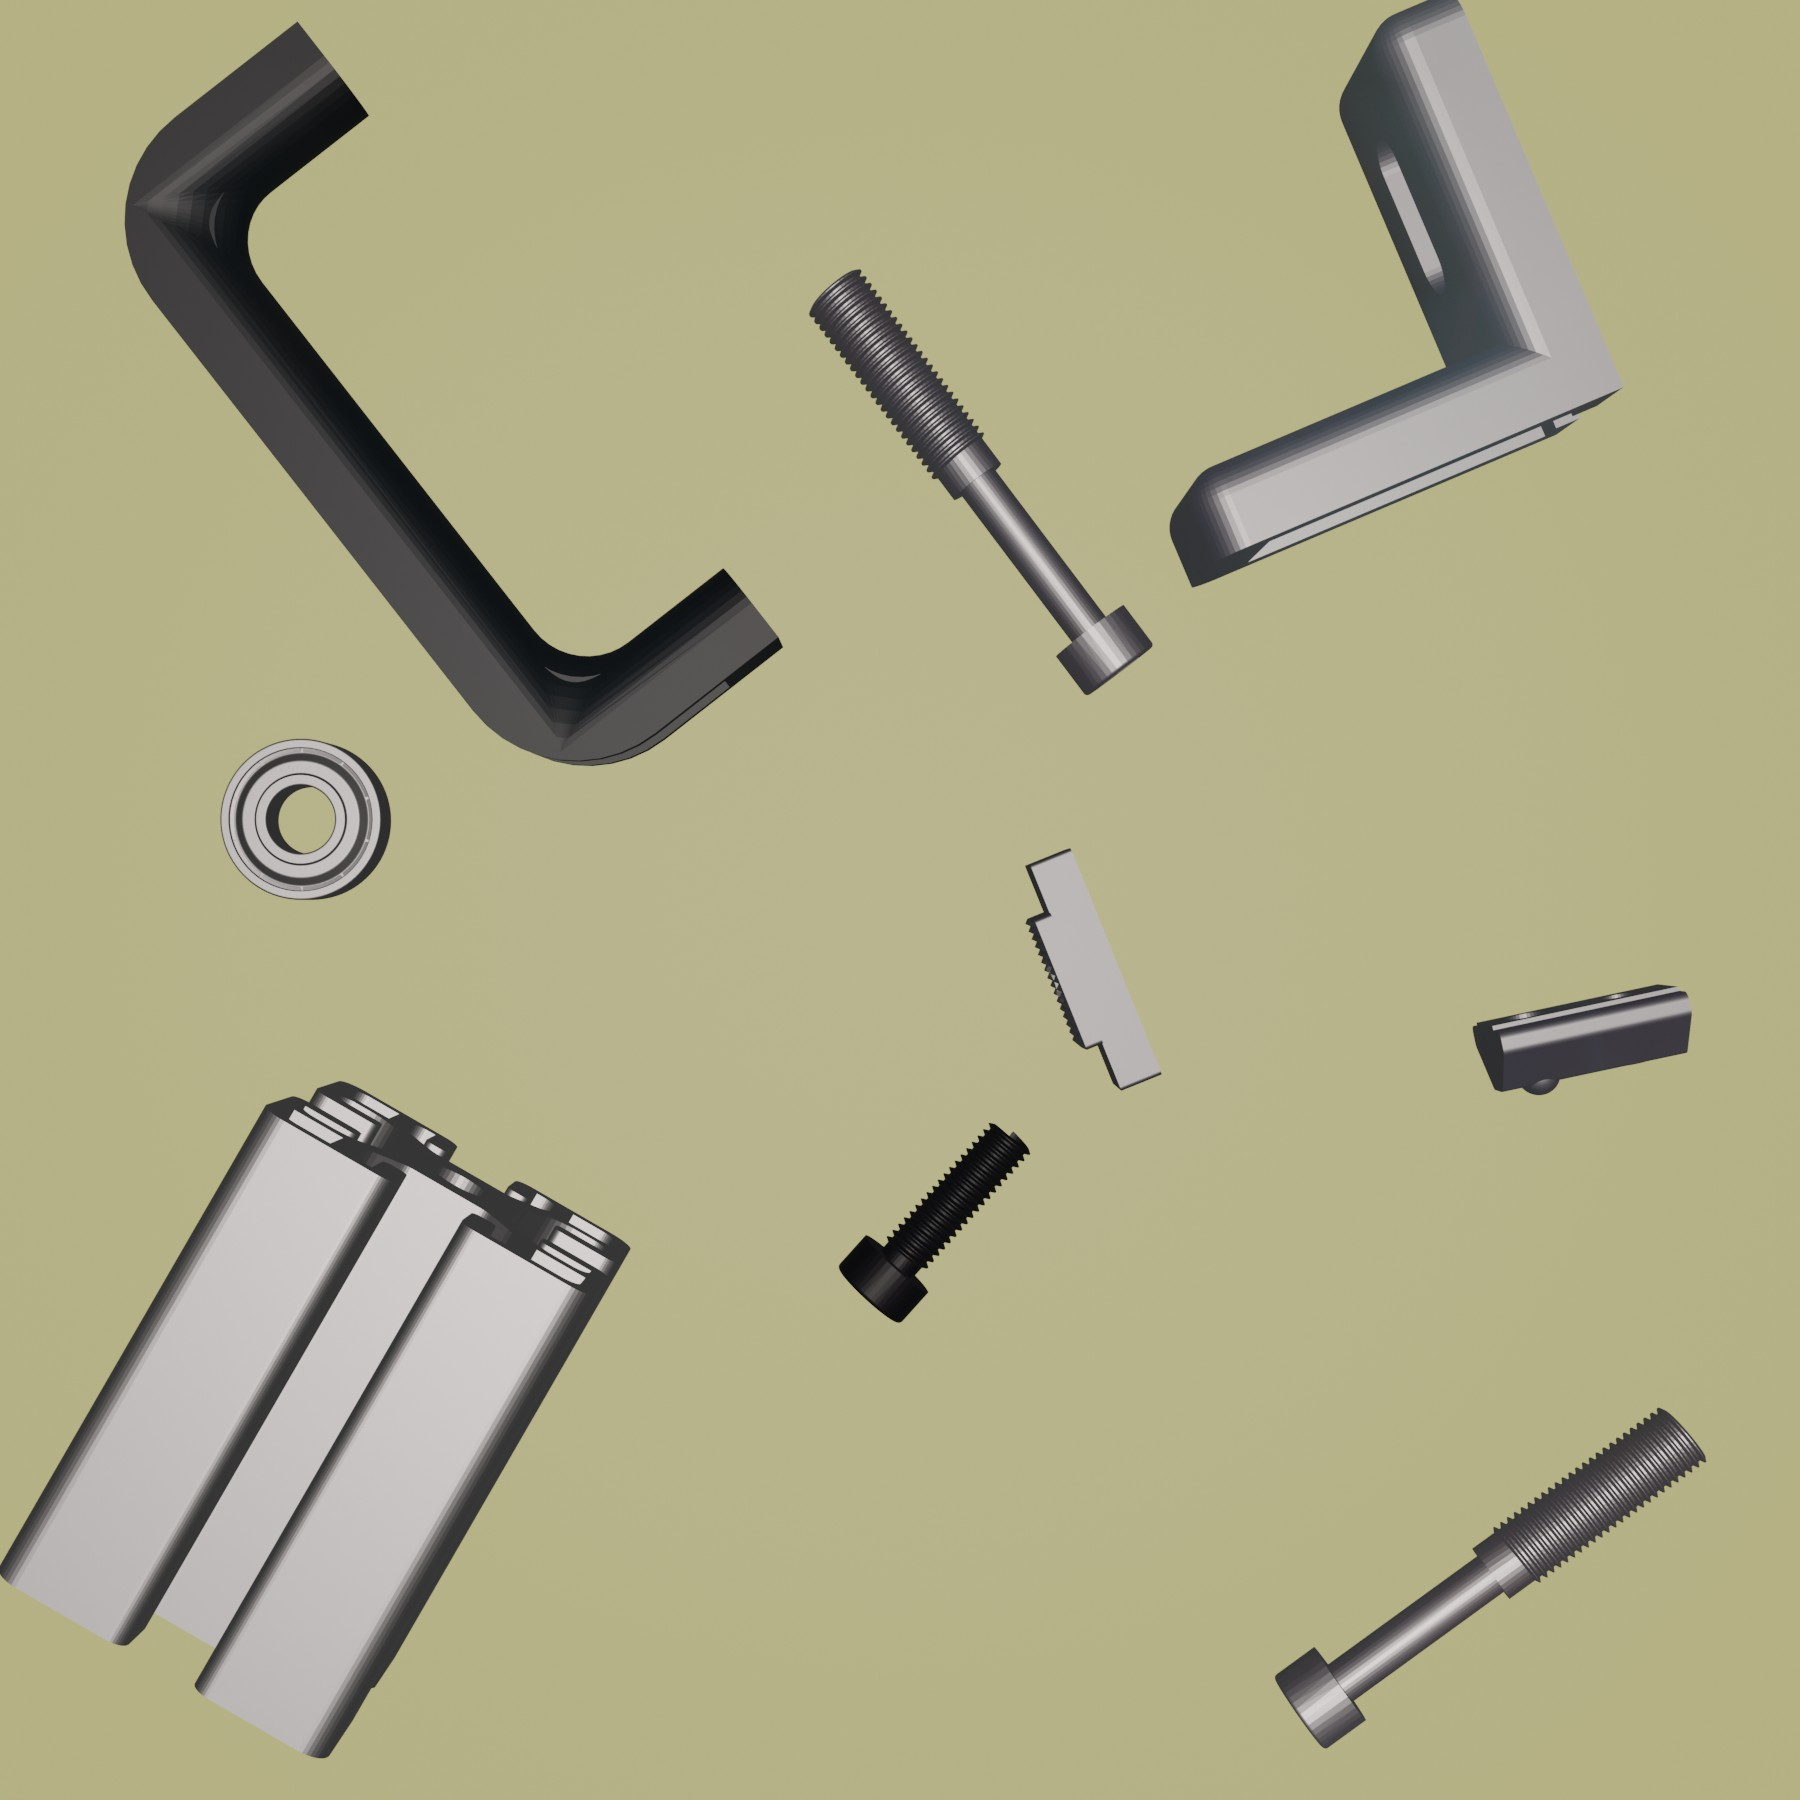Aluminium Extension: (2, 1080, 631, 1760)
Ball Bearing: (218, 735, 392, 902)
Multiwinkel: (1165, 2, 1625, 588)
Pull Handle: (120, 20, 788, 770)
Shoulder Socket Head Cap Screw: (1273, 1403, 1708, 1754), (806, 265, 1155, 697)
Socket Head Cap Screw: (836, 1118, 1030, 1324)
T Nut Square: (1024, 846, 1165, 1095)
T Spring Nut: (1470, 981, 1695, 1099)
